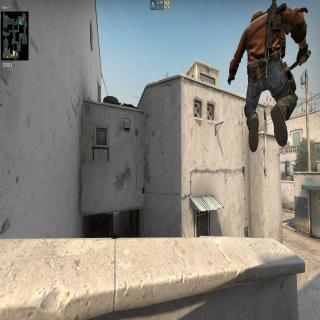T-Head: (249, 6, 265, 23)
